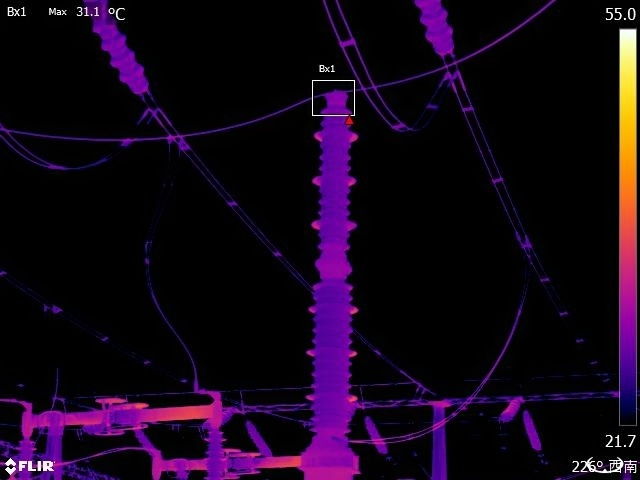clamp: (438, 63, 467, 93), (139, 101, 168, 125)
insulator: (75, 1, 159, 96), (417, 1, 466, 64), (517, 404, 548, 459), (359, 410, 395, 457), (242, 419, 277, 458), (496, 390, 526, 422)
post insulator: (297, 83, 368, 445)
switch: (15, 387, 231, 444), (141, 445, 313, 475)
